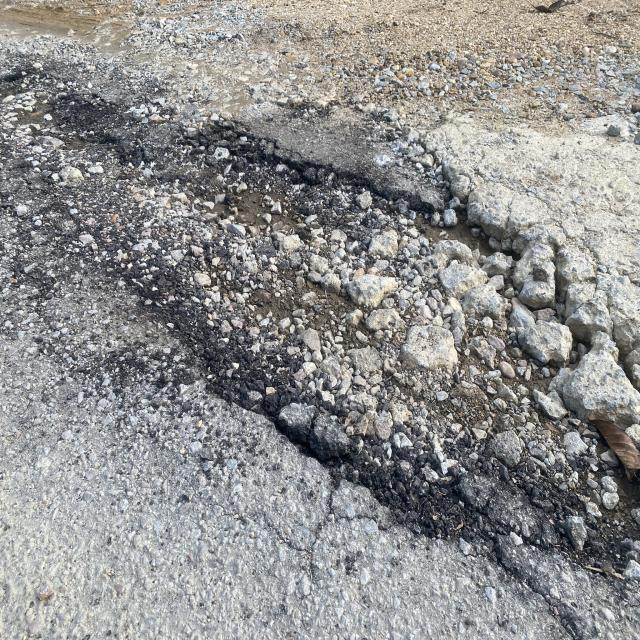pothole: (89, 97, 640, 587)
